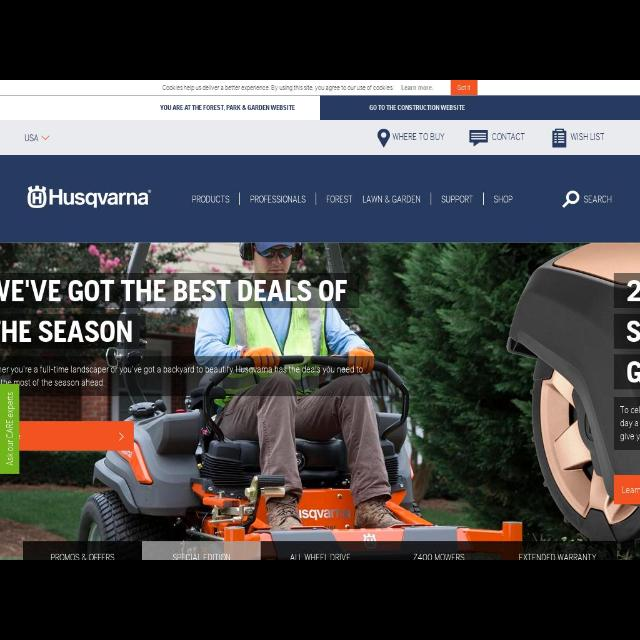backgroundimage: (1, 243, 639, 559)
icon: (469, 130, 488, 148), (377, 128, 391, 150), (552, 128, 566, 150), (564, 190, 578, 208), (41, 134, 49, 142)
image: (27, 186, 48, 208)
spinner: (24, 133, 51, 145)
text: (1, 278, 346, 304), (1, 366, 362, 386), (3, 318, 133, 344), (162, 85, 434, 92), (50, 189, 152, 207), (160, 104, 296, 110), (619, 404, 639, 444), (4, 390, 14, 468), (369, 104, 466, 110), (51, 552, 118, 560), (393, 132, 445, 142), (291, 551, 354, 559), (362, 195, 422, 203), (517, 553, 597, 559), (250, 195, 306, 203), (170, 553, 234, 559), (492, 132, 526, 142), (570, 133, 604, 143), (414, 553, 466, 559), (192, 195, 228, 203), (625, 280, 639, 300), (442, 194, 473, 203), (627, 320, 639, 342), (582, 196, 612, 204), (627, 362, 639, 382), (326, 195, 352, 203), (622, 485, 640, 495), (26, 132, 40, 144), (493, 195, 513, 203), (456, 85, 472, 94)
textbutton: (615, 476, 639, 504), (451, 82, 477, 95)
toolbar: (1, 155, 639, 241)
